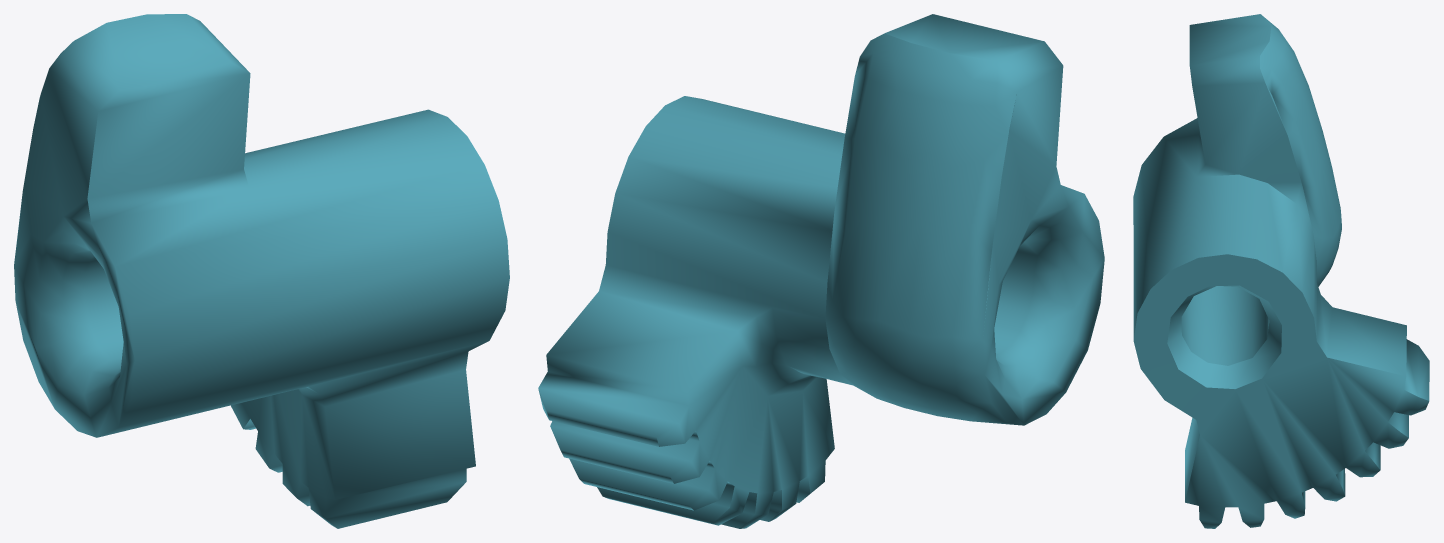
File: lever.obj
3 renders of one model, left to right at view 1: azimuth 30°, elevation 25°; view 2: azimuth 150°, elevation 25°; view 3: azimuth 270°, elevation 25°, orthographic. The views are drawn at different scales.
Visible parts, largest first — view 1: Качалка; view 2: Качалка; view 3: Качалка.
Boxes of the visible parts, <box> form: Качалка: <box>14,14,509,528</box>; Качалка: <box>538,14,1104,528</box>; Качалка: <box>1133,14,1429,528</box>.
Bounding box in the file's own units: 0.024 × 0.0318 × 0.0217.
